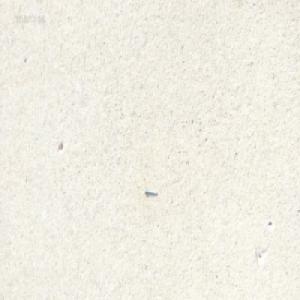Nail: (144, 186, 157, 195)
